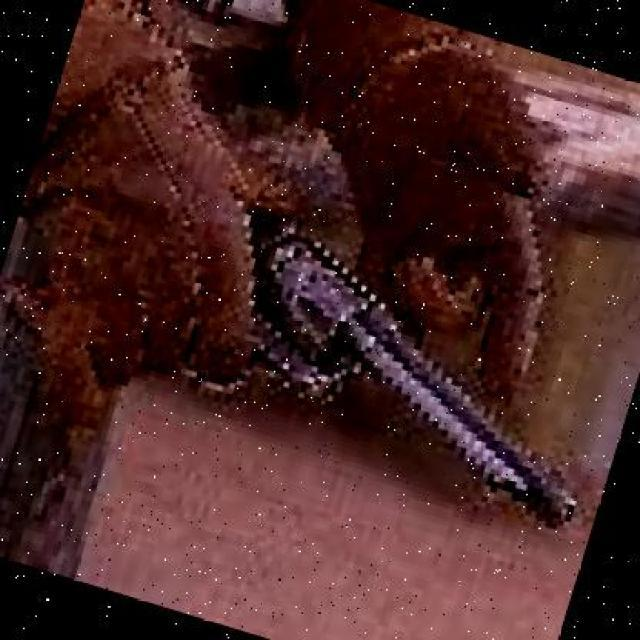rifle: (163, 225, 591, 532)
